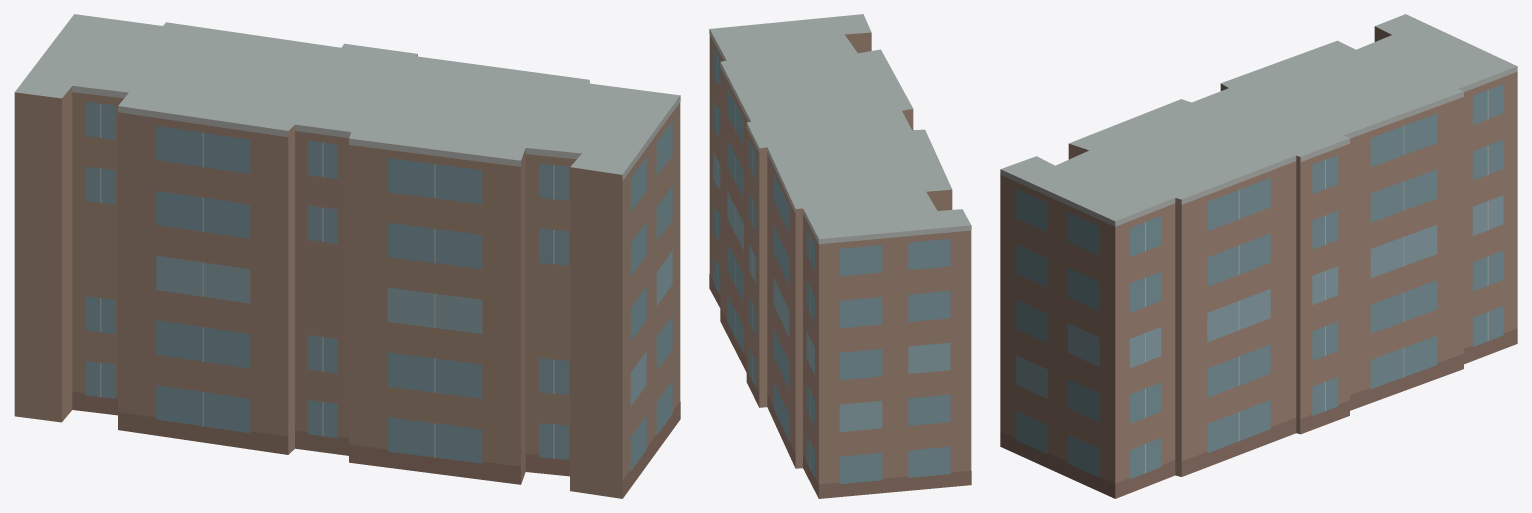
The model's file is survey-upis-32693952.glb.
3 renders of one model, left to right at view 1: azimuth 30°, elevation 25°; view 2: azimuth 150°, elevation 25°; view 3: azimuth 270°, elevation 25°, orthographic. The views are drawn at different scales.
Parts seen in each view (by area): view 1: survey-upis-32693952.tmp; view 2: survey-upis-32693952.tmp; view 3: survey-upis-32693952.tmp.
Part boxes in pixels (box(x1,y1,x2,y2)): survey-upis-32693952.tmp: box(14, 14, 680, 498); survey-upis-32693952.tmp: box(709, 14, 971, 498); survey-upis-32693952.tmp: box(1000, 14, 1517, 498).
Size of the model in its own units: 20.2 by 12.6 by 21.29.
